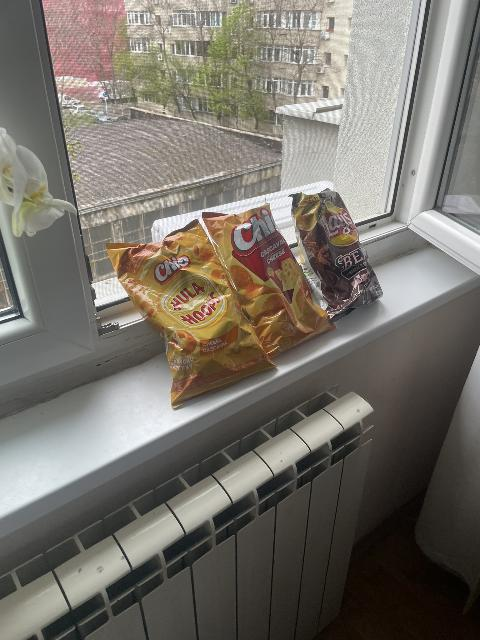Chio Cascaval 125g: (202, 197, 334, 357)
Chio Hula Hoops Cheese 70g: (100, 216, 275, 411)
Lays Beef Grilled Ribs 125g: (293, 189, 381, 316)
